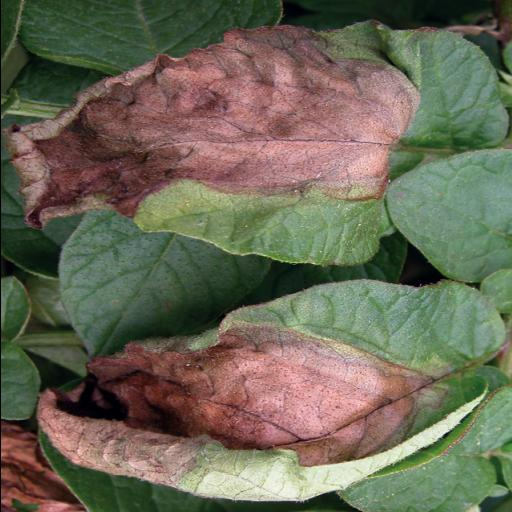disease_tomato: (6, 21, 512, 269), (28, 280, 511, 506)
